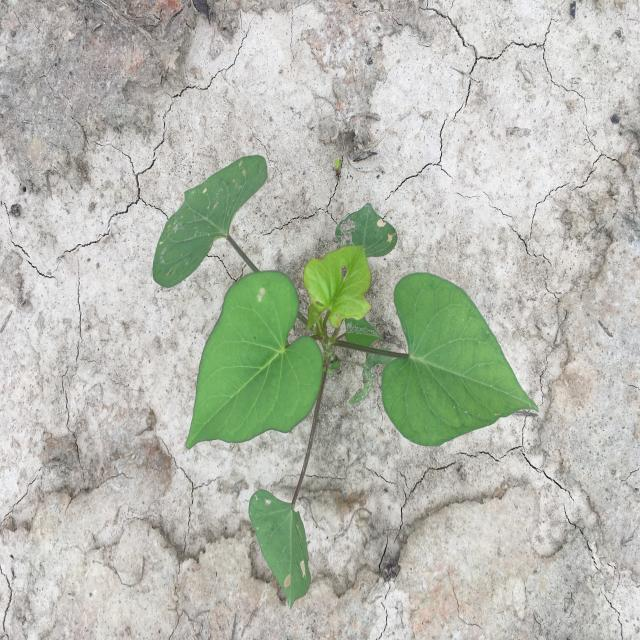MorningGlory: (152, 155, 540, 610)
